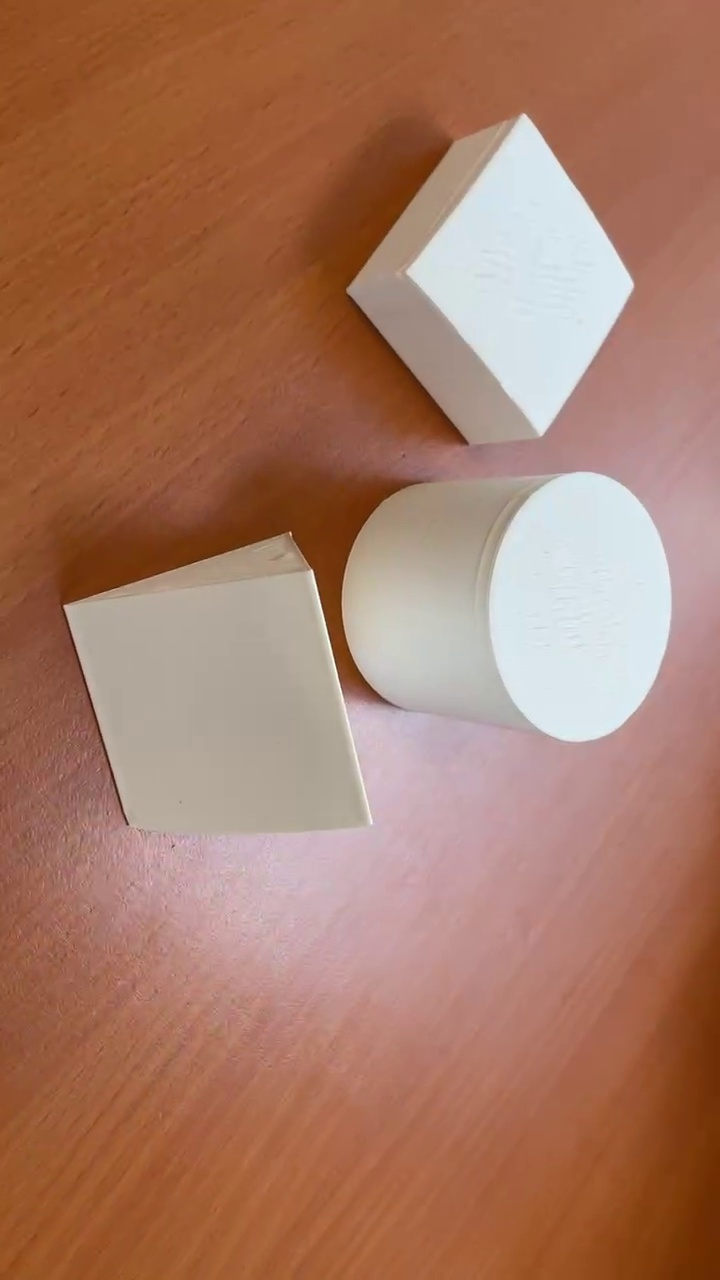Cube_short: (337, 120, 638, 446)
Cylinder: (341, 472, 674, 745)
Triangle: (59, 534, 375, 831)
